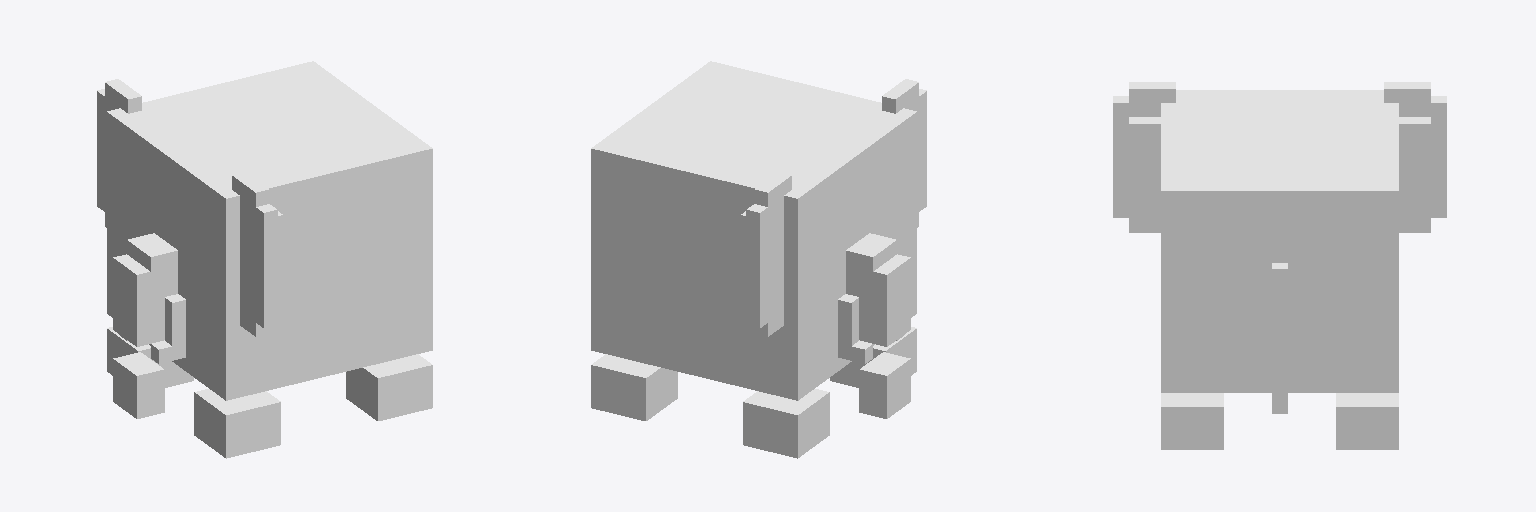
Rendered from elephant_sep.obj.
The picture shows the model from 3 angles: view 1: azimuth 30°, elevation 25°; view 2: azimuth 150°, elevation 25°; view 3: azimuth 270°, elevation 25°; orthographic projection.
Parts seen in each view (by area): view 1: elephant_sep; view 2: elephant_sep; view 3: elephant_sep.
Part boxes in pixels (bbox=[...]): elephant_sep: bbox=[97, 61, 432, 458]; elephant_sep: bbox=[591, 61, 926, 458]; elephant_sep: bbox=[1113, 82, 1446, 449].
Bounding box in the file's own units: 19 × 19 × 21.